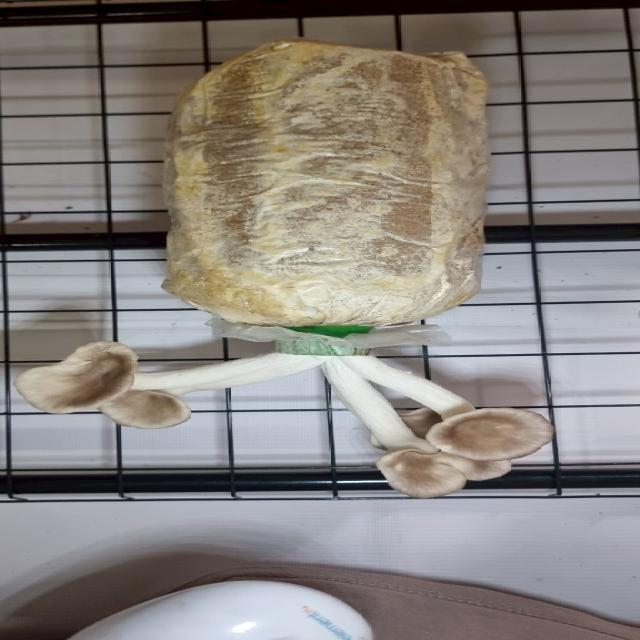normal: (327, 321, 542, 502), (9, 330, 240, 439)
